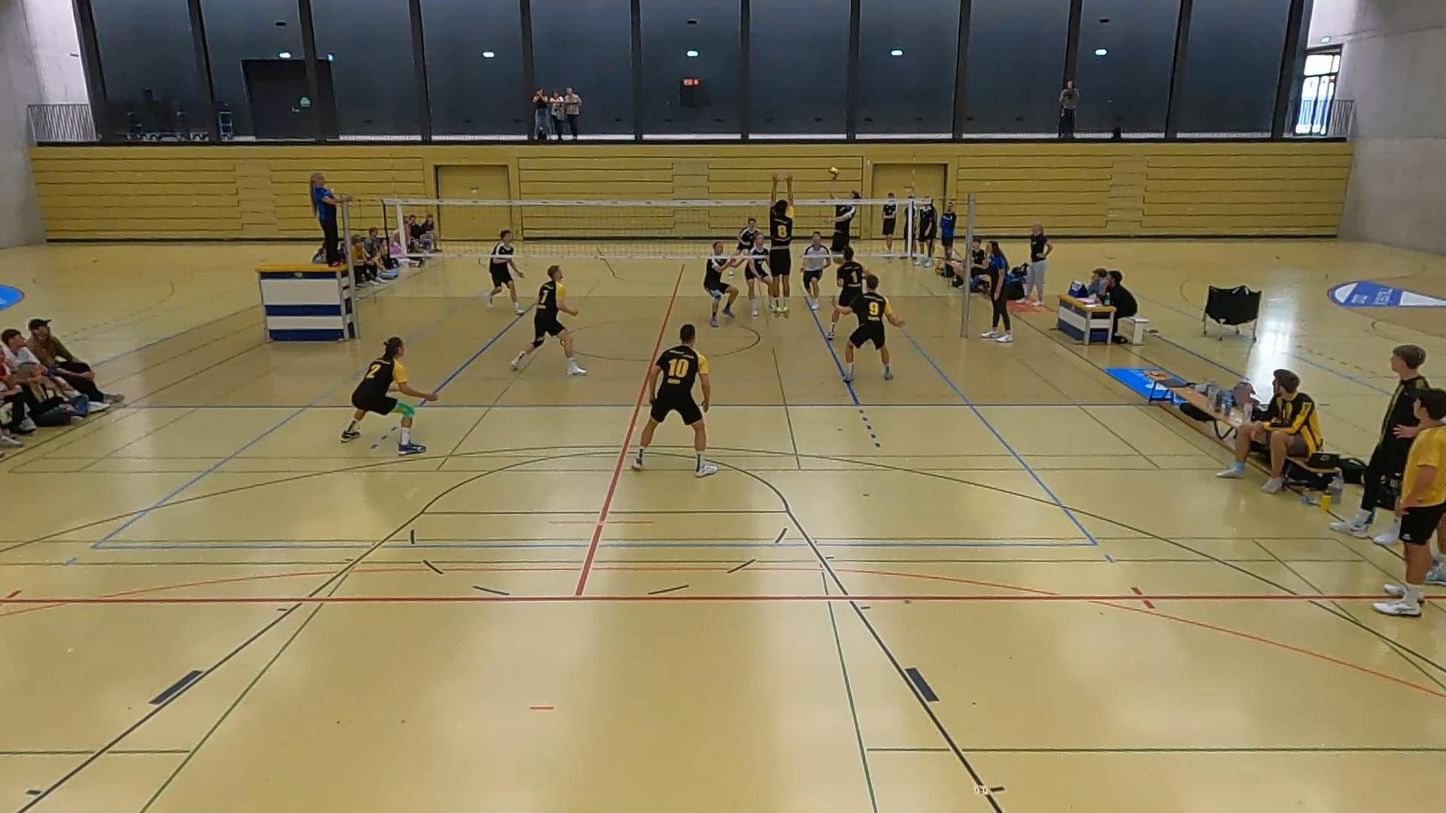Attack: (819, 168, 860, 266)
Block: (762, 171, 800, 322)
Player: (631, 324, 717, 477), (340, 336, 437, 455), (511, 265, 585, 375), (835, 275, 904, 382), (487, 230, 524, 314), (703, 242, 739, 326), (740, 233, 773, 316), (801, 232, 831, 310), (835, 247, 865, 306), (736, 218, 759, 254)
ball: (825, 163, 841, 185)
